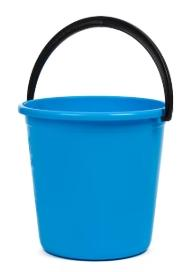SEAU: (12, 7, 190, 272)
